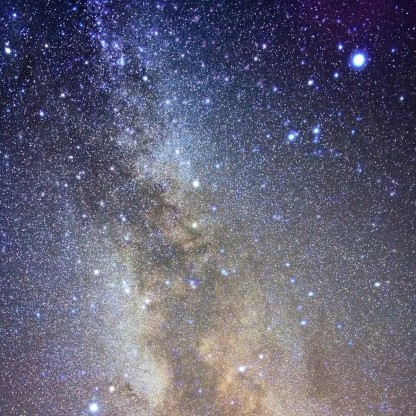Lyra: (348, 48, 371, 75), (278, 124, 299, 147), (299, 73, 318, 93), (331, 36, 349, 57), (308, 120, 325, 139), (330, 64, 343, 86)
